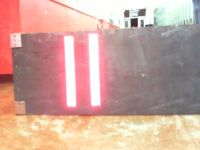switch: (87, 33, 101, 105), (63, 35, 76, 106)
